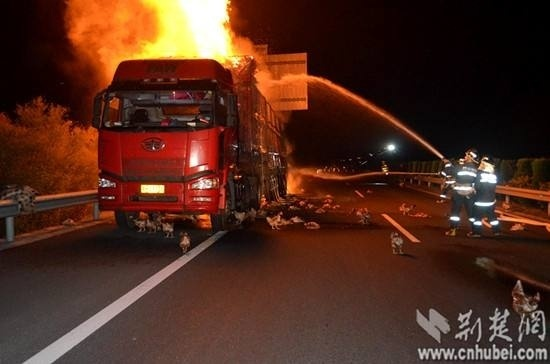fire: (68, 0, 242, 71)
